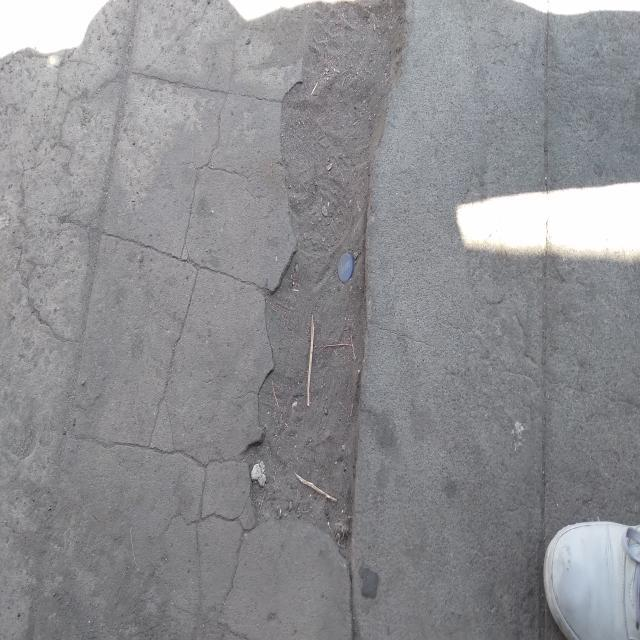hole: (244, 58, 406, 536)
